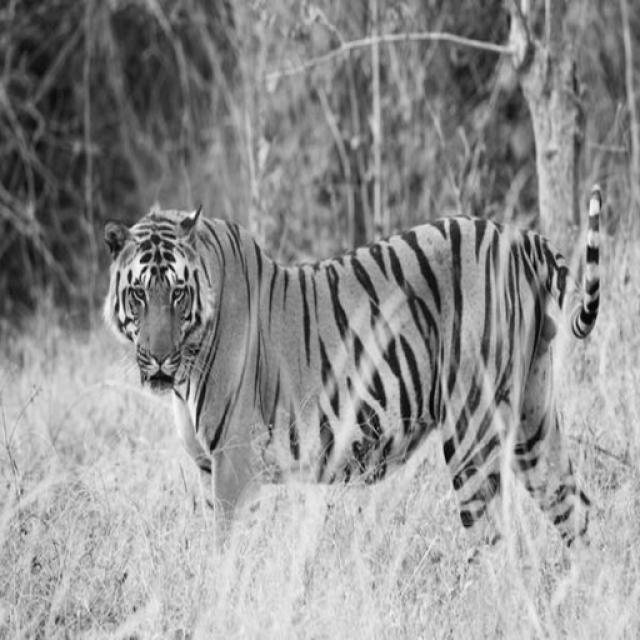Tiger: (108, 96, 558, 582)
